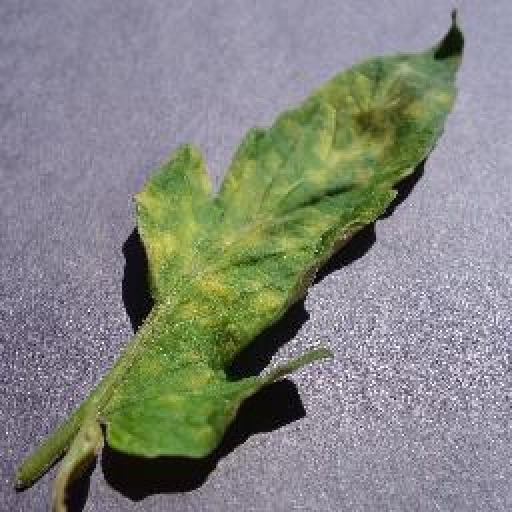disease_tomato: (100, 11, 467, 457)
